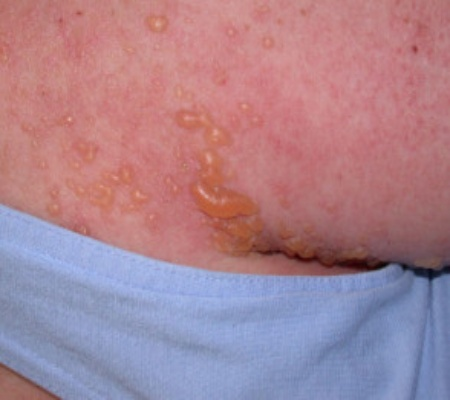SJS-TEN: (0, 0, 450, 302)
